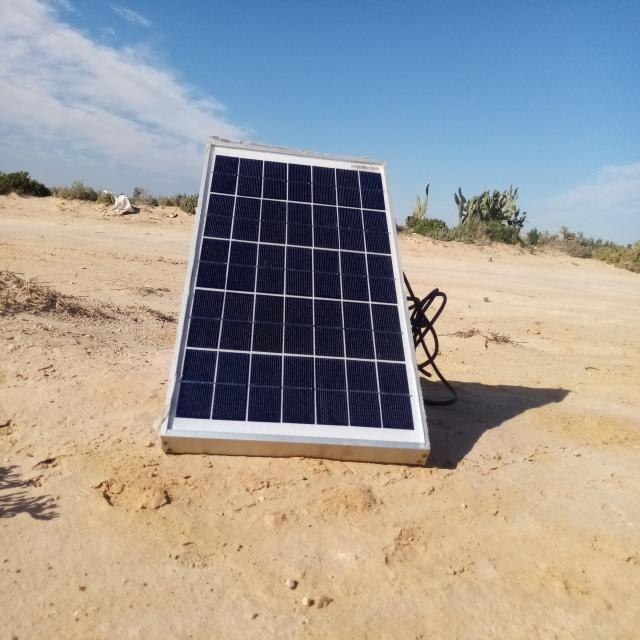no faulty: (168, 139, 428, 443)
